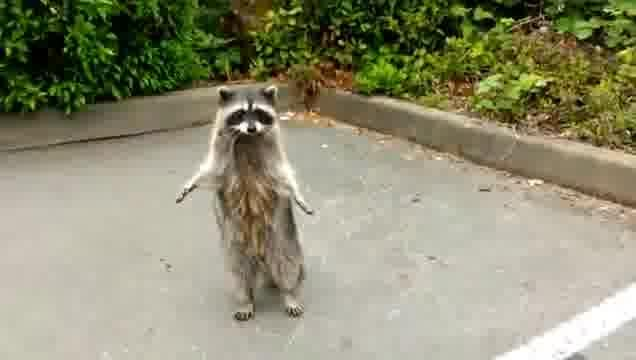raccoon: (170, 84, 319, 324)
